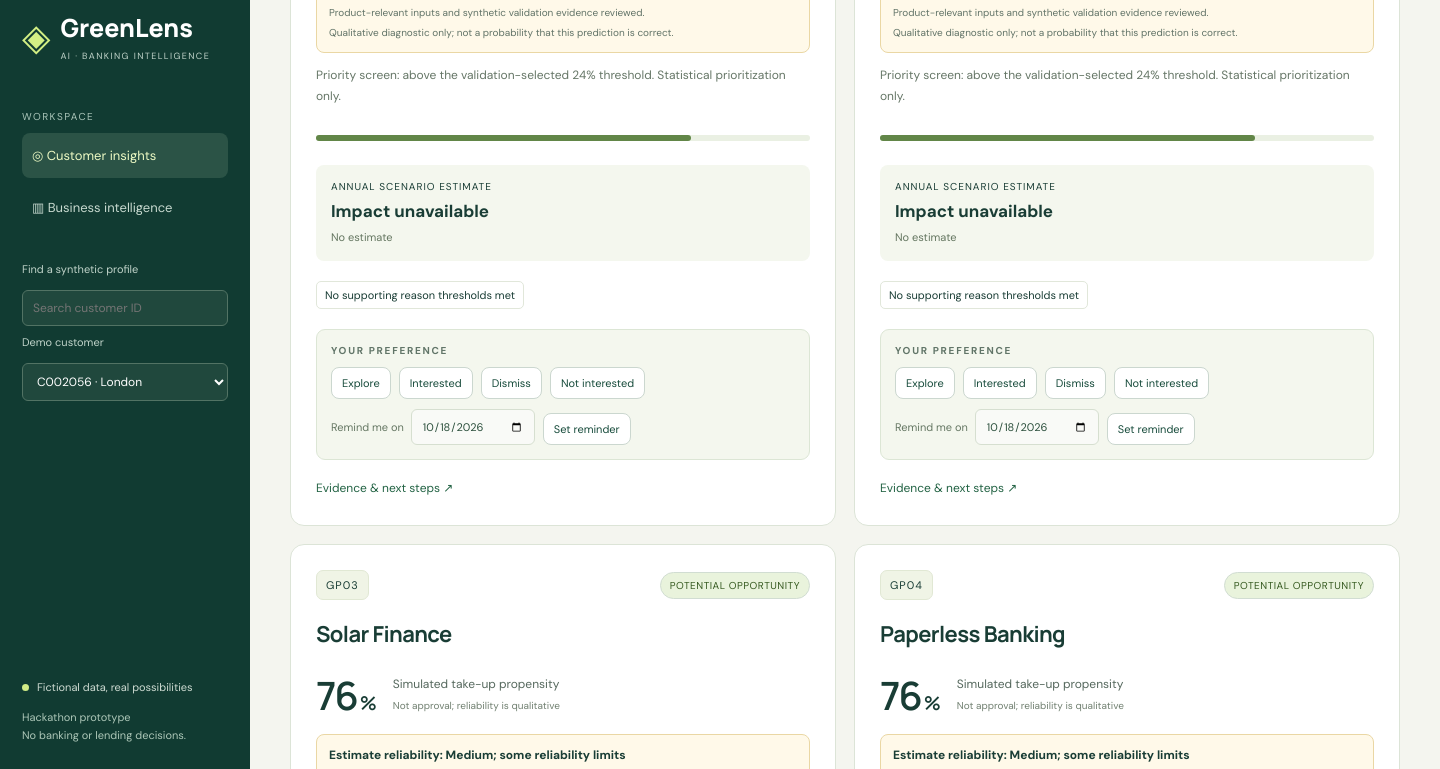
Test: Customer memory controls › deprioritizes a dismissed opportunity without changing propensity or screening
This screenshot has width=1440, height=769.
(page scrolled)
Click the button with aria-label "Dismiss EV Finance".
click(511, 383)  # box [481,367,542,399]
(page scrolled)
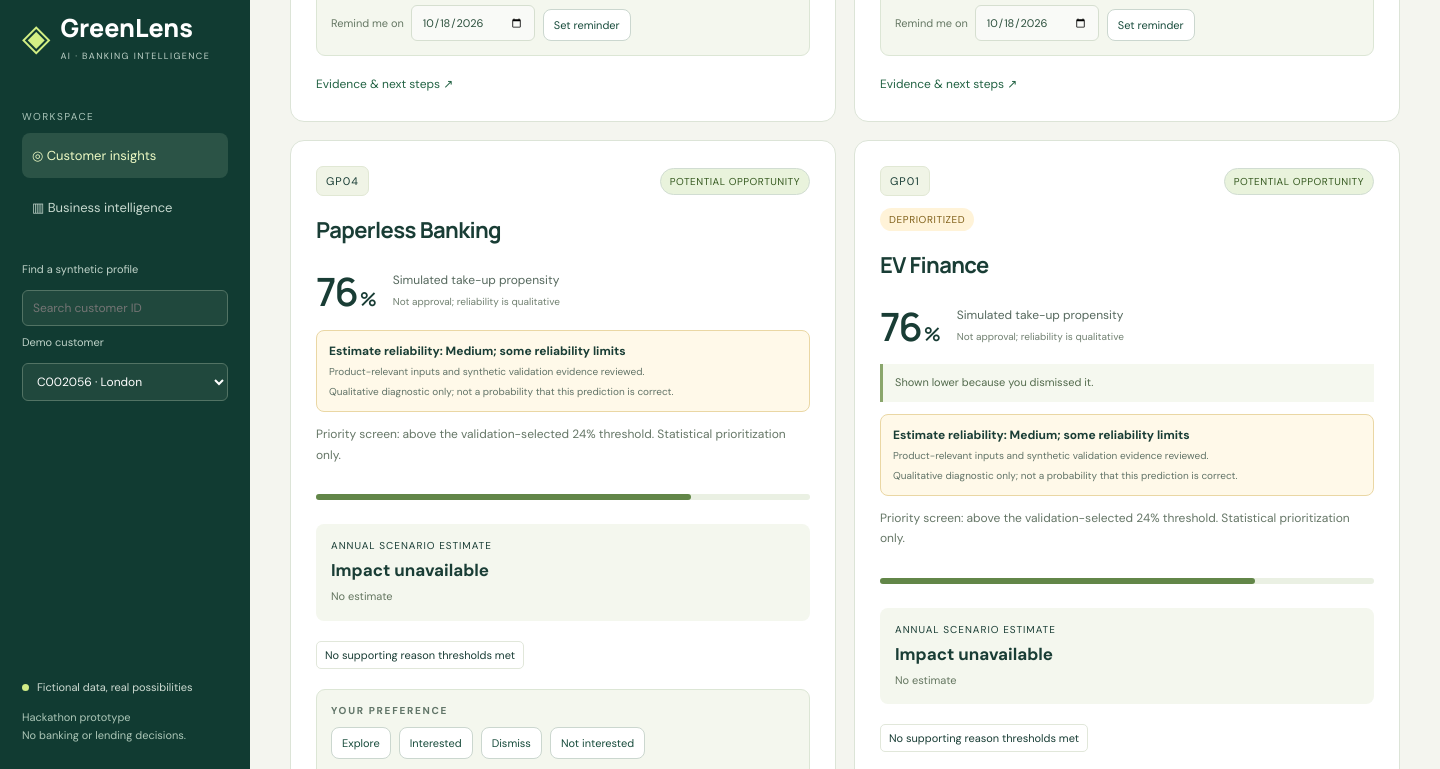
expect the text "76" below "EV Finance" is shown: met, box [880,299,921,353]
expect the text "Shown lower because you dismissed it." is shown: met, box [880,364,1374,402]
